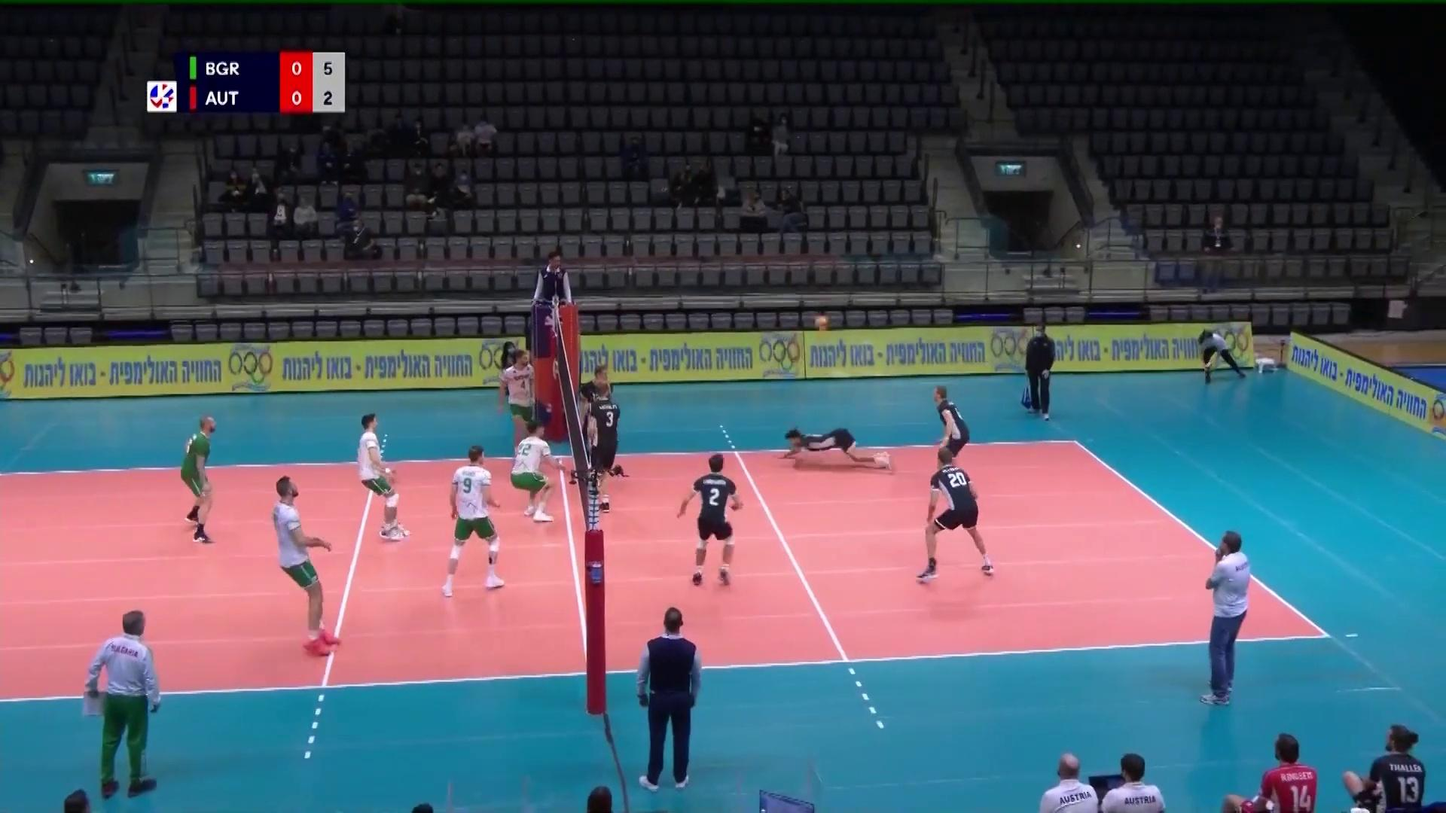ball: (815, 316, 829, 330)
